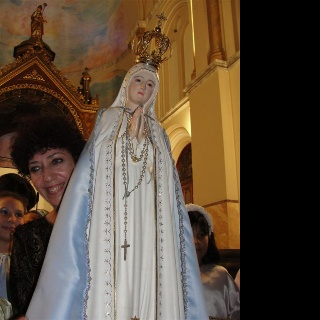without_mask: (28, 147, 76, 210), (0, 196, 24, 246), (124, 69, 156, 104), (189, 223, 208, 261)
